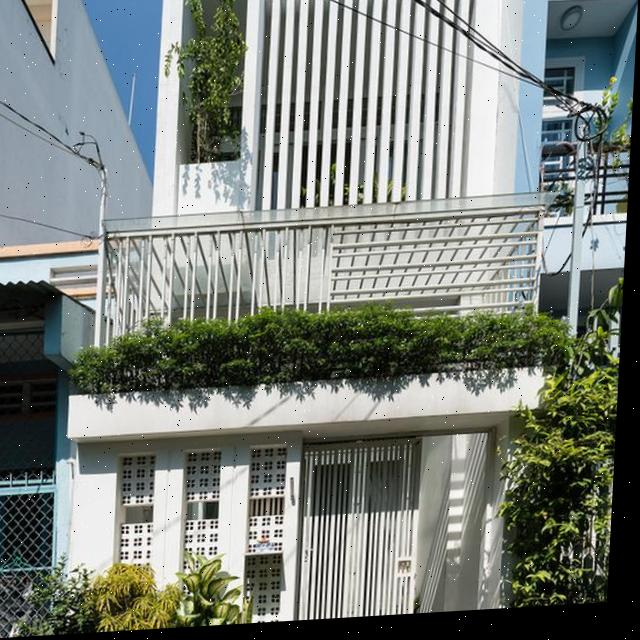building: (56, 0, 640, 635)
